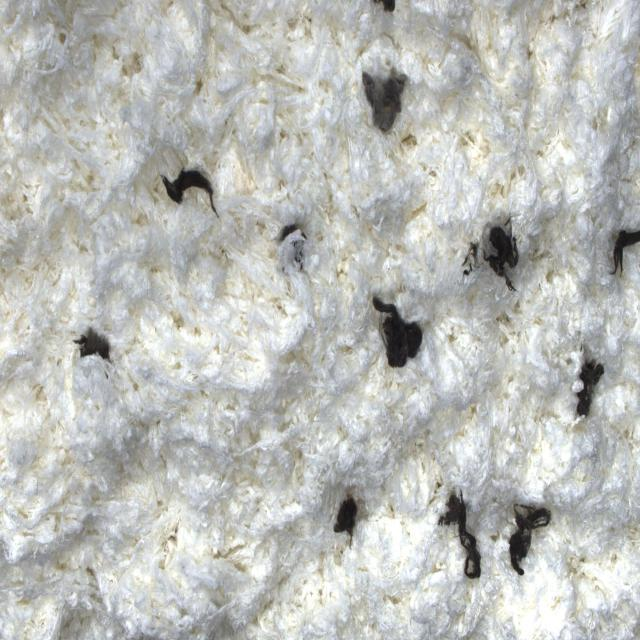dust: (555, 318, 617, 456), (435, 475, 488, 591), (370, 284, 428, 381), (273, 192, 317, 299), (156, 156, 222, 224), (507, 493, 553, 586), (356, 58, 411, 134), (597, 201, 640, 298), (481, 219, 525, 300), (70, 319, 115, 373), (326, 483, 361, 551), (450, 230, 477, 301), (368, 0, 406, 35)
